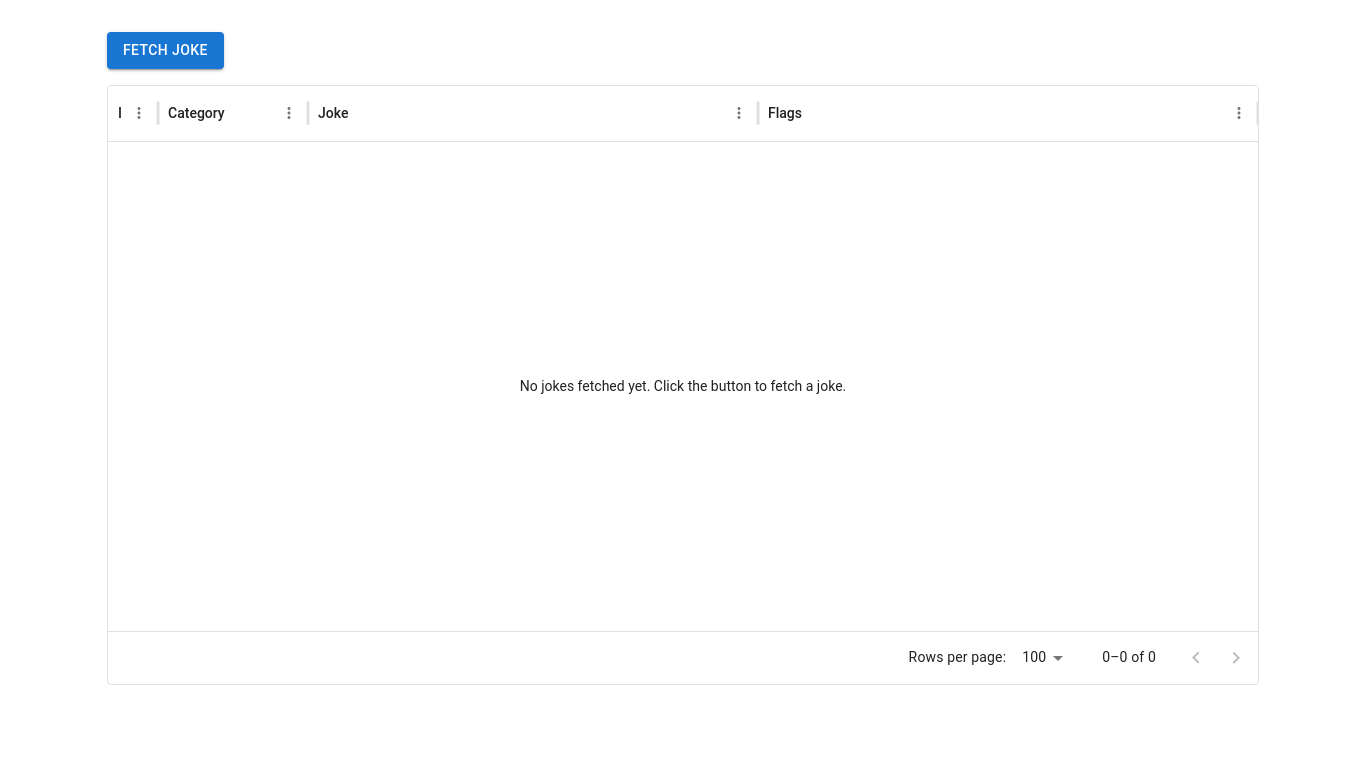
Test: App › shows error Snackbar when fetch fails
The image size is (1366, 768).
Click the button "Fetch Joke": (165, 50) top-left (107, 32), bottom-right (224, 68)
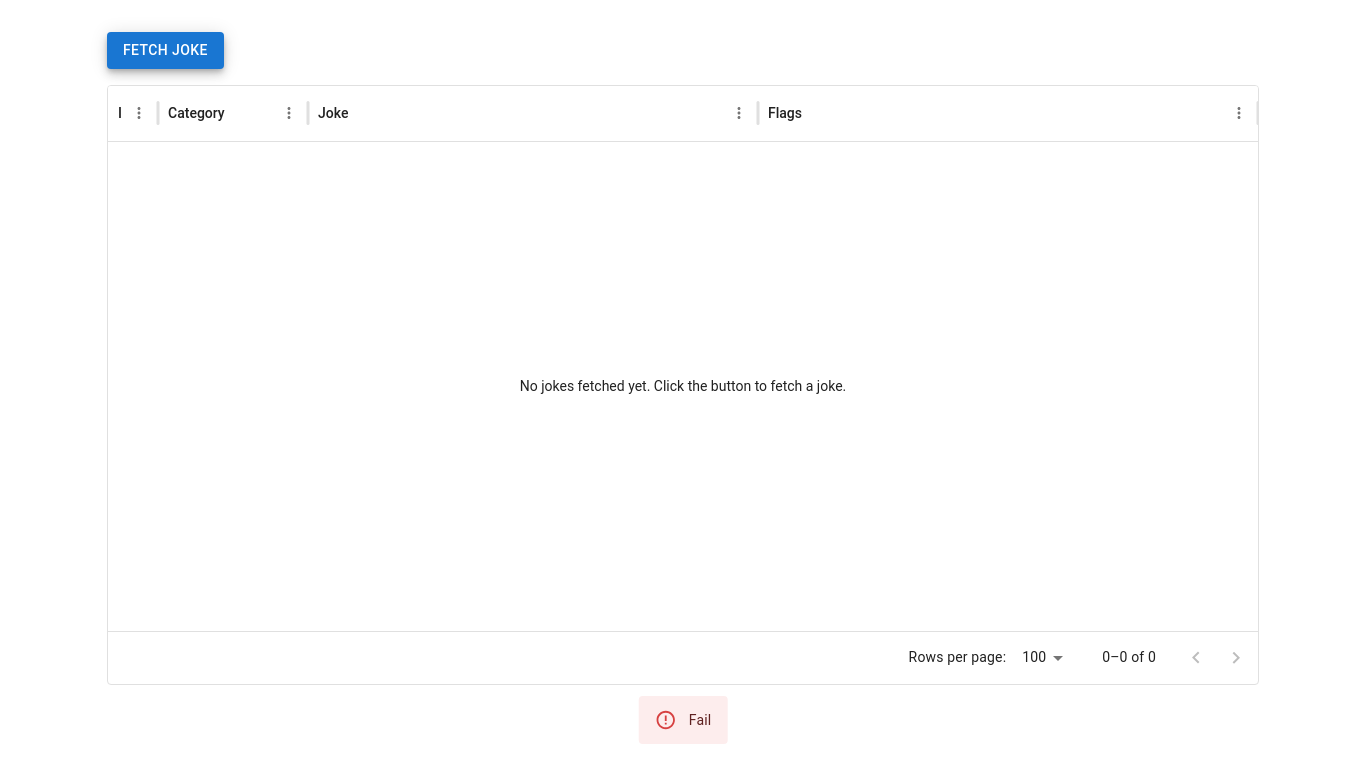
Result: the message "Fail" is shown at top-left (639, 696), bottom-right (727, 744)
